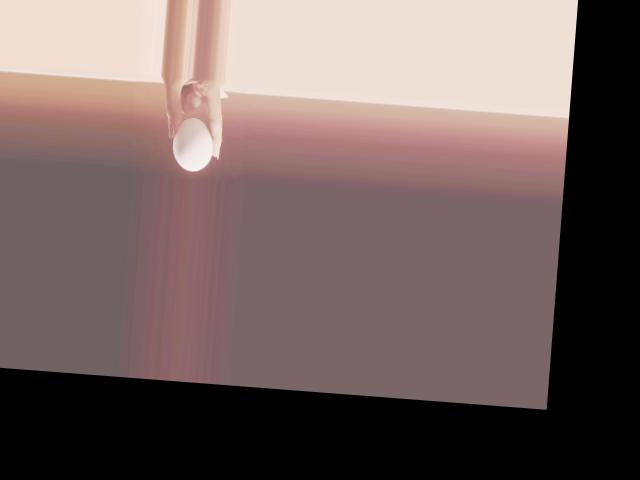egg: (170, 115, 214, 172)
